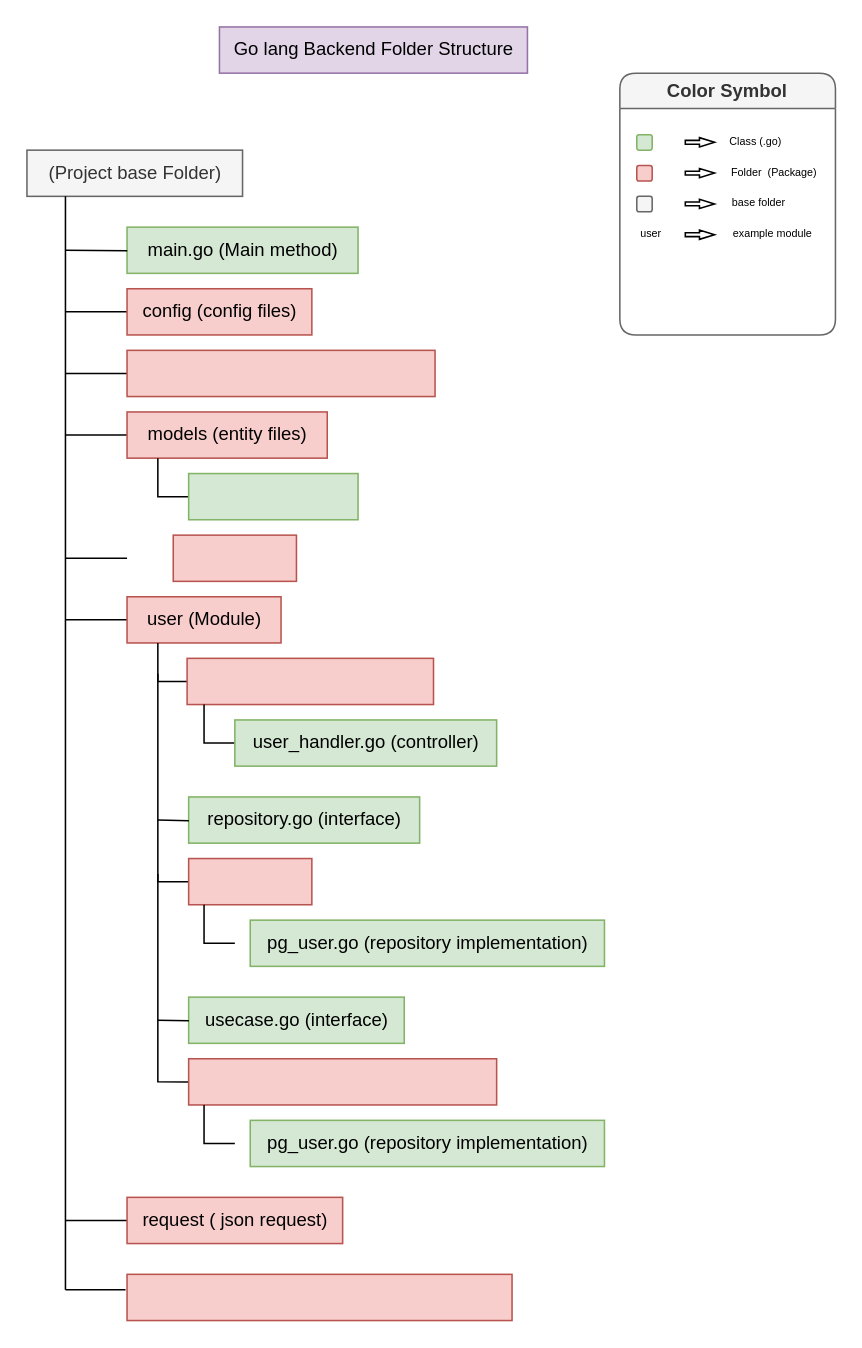
Some shapes in this 862 by 1348 pixel diagram are drawn without their labels. The box of each missing label's shape, as (x1, y1, x2, y2) in pixels:
(Frontend): (172, 534, 296, 581)
deliver/http (controller/url): (186, 657, 434, 705)
repository: (187, 857, 312, 905)
response (Render func http json response ): (126, 1273, 512, 1321)
usecase (service/business logic): (187, 1057, 497, 1105)
user.go(user entity): (187, 472, 358, 520)
util (Utilities configuration classes): (126, 349, 435, 397)
